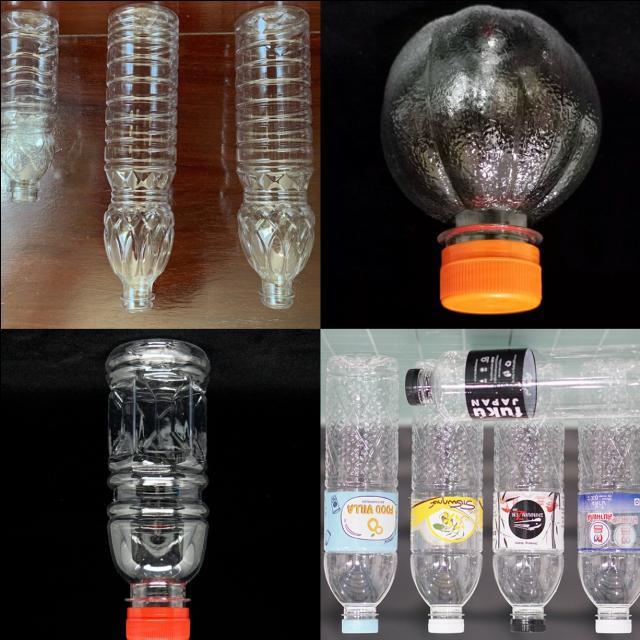plastik: (381, 4, 600, 312), (104, 339, 209, 640), (233, 5, 314, 308), (103, 3, 179, 311), (323, 353, 398, 632), (404, 344, 640, 419), (410, 404, 483, 632), (492, 419, 564, 632), (577, 417, 640, 632), (0, 9, 57, 201)
